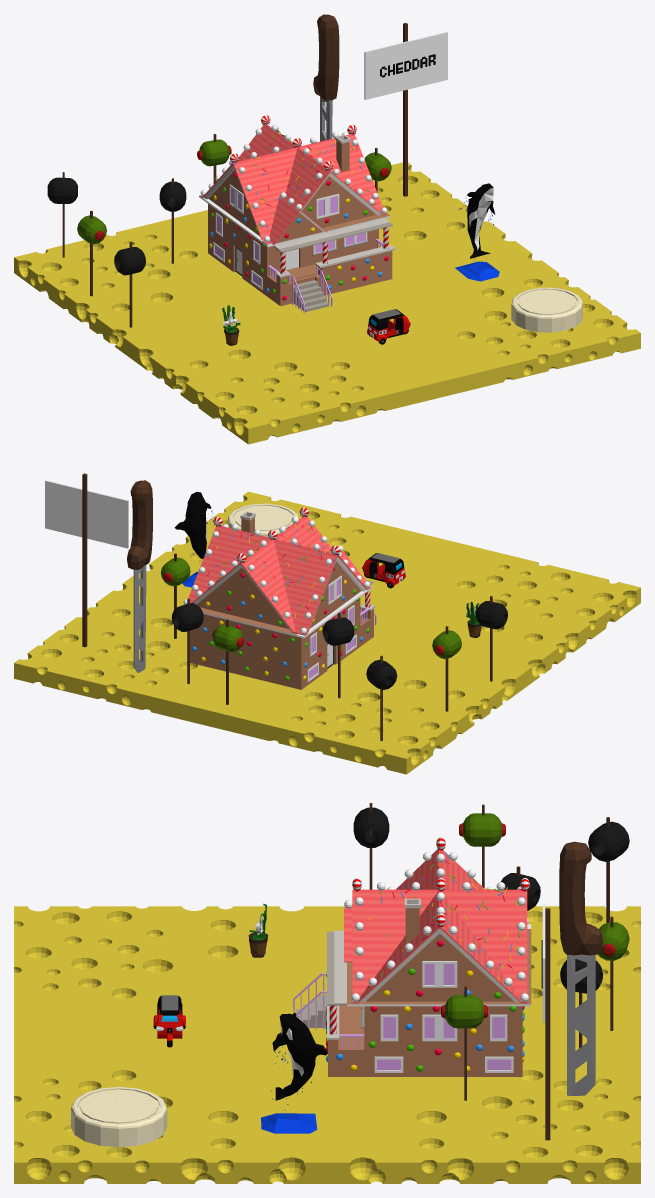
3 views of the same model, one above another, from view 1: azimuth 30°, elevation 25°; view 2: azimuth 150°, elevation 25°; view 3: azimuth 270°, elevation 25° (orthographic). The views are drawn at different scales.
Parts seen in each view (by area): view 1: Cube.022, Cube.1203, Cube.023, Cylinder.016, Cube.024, ANIMAL_ORCA, VEHICLES_TUC_TUC, Sphere.017, Sphere.016, Sphere.020, Sphere.018, Sphere.022 (+1 smaller); view 2: Cube.022, Cube.1203, Cube.023, Cube.024, ANIMAL_ORCA, Cylinder.016, VEHICLES_TUC_TUC, Sphere.017, Sphere.020, Sphere.021, Sphere.016, Sphere.018 (+2 smaller); view 3: Cube.022, Cube.1203, Cube.024, Cylinder.016, ANIMAL_ORCA, Cube.023, Sphere.019, Sphere.016, Sphere.018, Sphere.017, VEHICLES_TUC_TUC, Sphere.022 (+3 smaller).
Boxes of the visible parts, x1,y1,x2,y2 form: Cube.022: [14, 162, 640, 444]; Cube.1203: [199, 115, 395, 313]; Cube.023: [364, 23, 447, 196]; Cylinder.016: [511, 287, 582, 332]; Cube.024: [313, 14, 339, 141]; ANIMAL_ORCA: [455, 183, 499, 281]; VEHICLES_TUC_TUC: [367, 309, 410, 344]; Sphere.017: [114, 242, 145, 327]; Sphere.016: [47, 172, 77, 257]; Sphere.020: [159, 178, 186, 263]; Sphere.018: [77, 210, 106, 296]; Sphere.022: [197, 134, 231, 183]; Cube.022: [14, 491, 640, 774]; Cube.1203: [183, 507, 376, 689]; Cube.023: [45, 473, 128, 647]; Cube.024: [127, 480, 152, 672]; ANIMAL_ORCA: [174, 492, 216, 587]; Cylinder.016: [228, 503, 298, 537]; VEHICLES_TUC_TUC: [362, 553, 405, 588]; Sphere.017: [476, 596, 507, 681]; Sphere.020: [322, 612, 354, 698]; Sphere.021: [171, 598, 203, 683]; Sphere.016: [366, 655, 397, 741]; Sphere.018: [432, 626, 461, 711]; Cube.022: [14, 906, 640, 1183]; Cube.1203: [293, 837, 531, 1076]; Cube.024: [559, 841, 602, 1095]; Cylinder.016: [71, 1086, 167, 1147]; ANIMAL_ORCA: [261, 1012, 327, 1133]; Cube.023: [541, 904, 550, 1140]; Sphere.019: [441, 986, 487, 1100]; Sphere.016: [588, 817, 629, 922]; Sphere.018: [459, 804, 505, 888]; Sphere.017: [353, 803, 389, 889]; VEHICLES_TUC_TUC: [153, 995, 185, 1047]; Sphere.022: [598, 916, 629, 1030].
Size of the model in its own units: 3917 by 2007 by 4000.
Materials: 49 (4 with a texture image).
